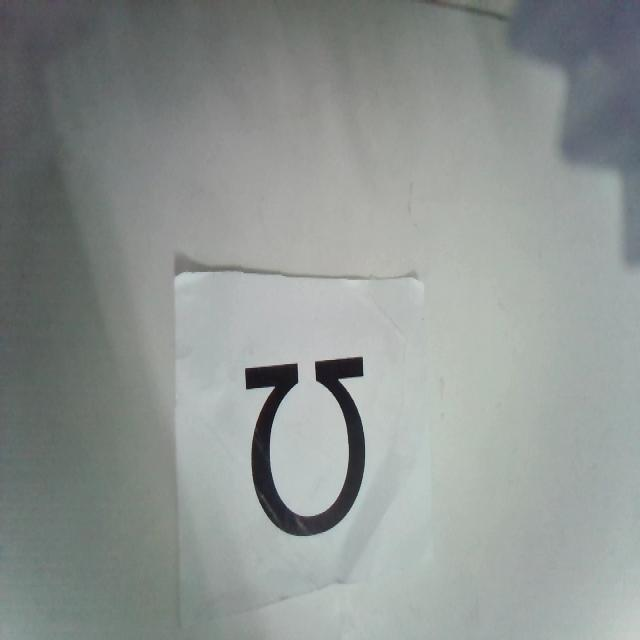OM: (243, 354, 369, 535)
